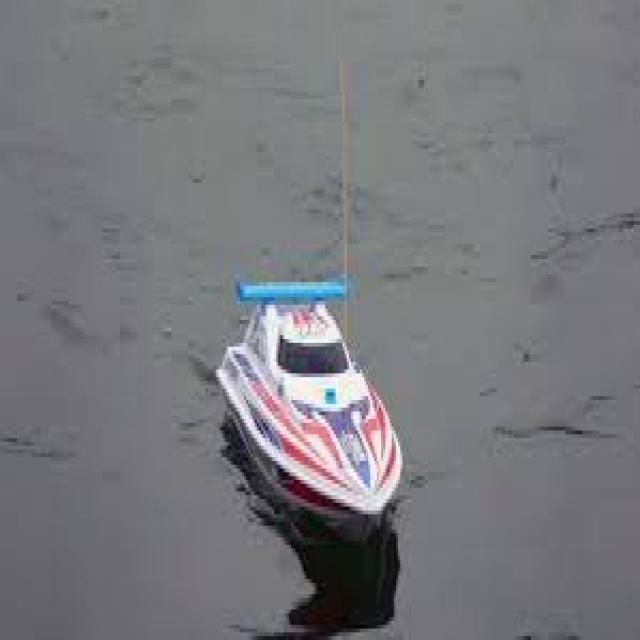ship2: (216, 280, 404, 546)
